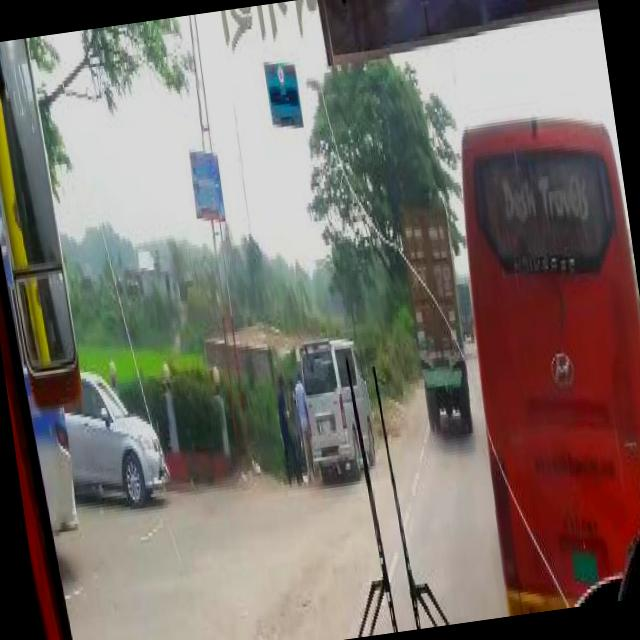bus: (441, 103, 640, 607), (0, 172, 78, 526)
car: (54, 344, 174, 518)
truck: (396, 191, 472, 427), (296, 334, 379, 474), (455, 278, 473, 332)
